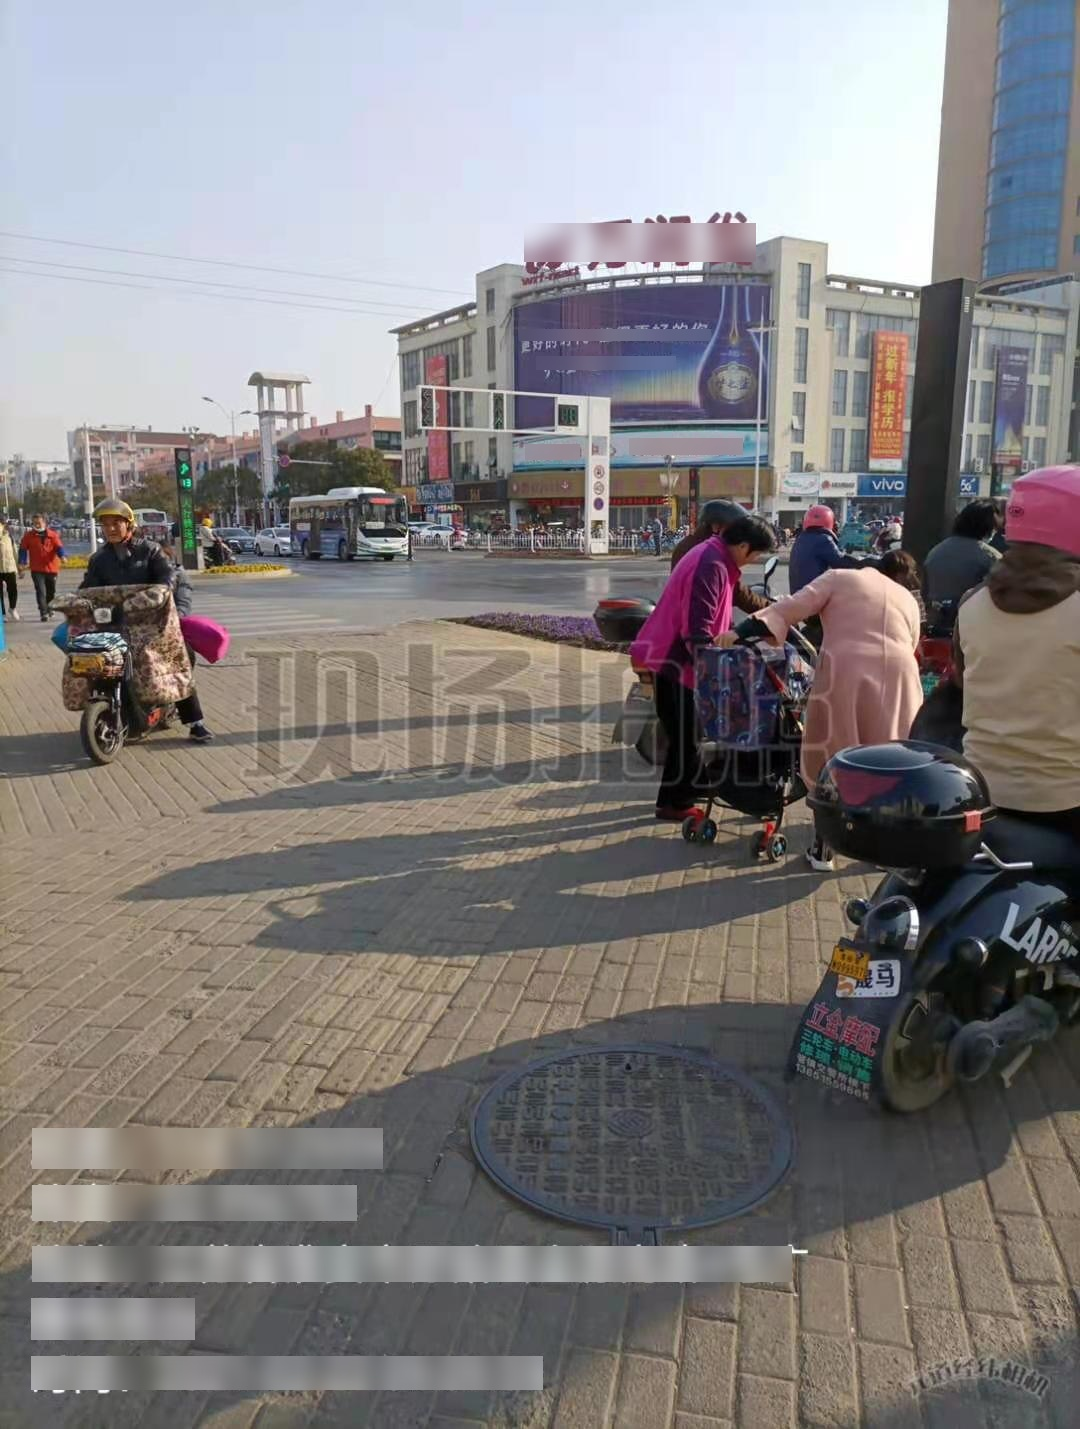good: (469, 1039, 796, 1237)
